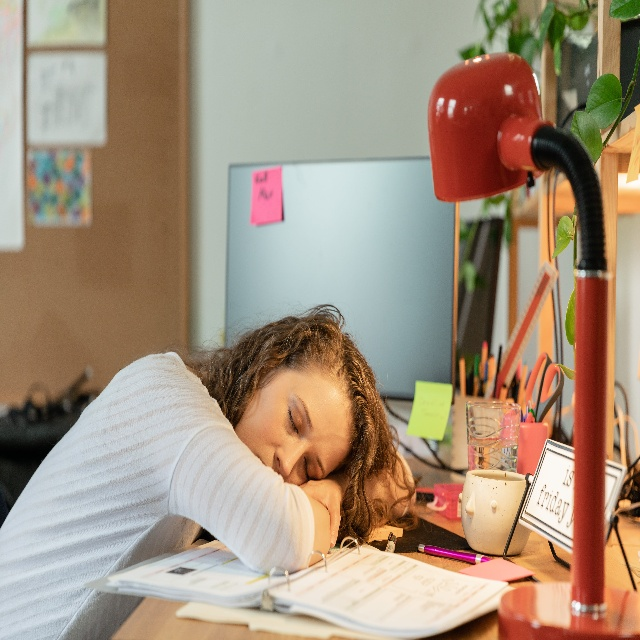Sin_guantes: (300, 474, 342, 544)
